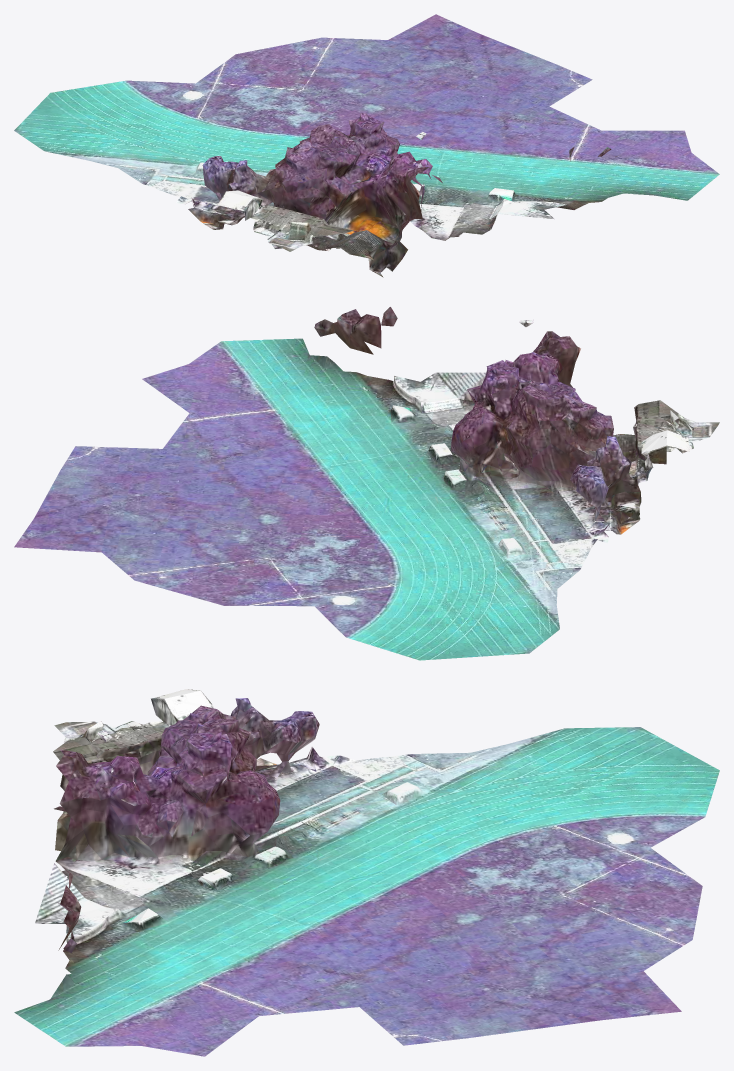
The model's file is Tile_+012_+018_L19_000001.glb.
The picture shows the model from 3 angles, top to bottom: view 1: azimuth 30°, elevation 25°; view 2: azimuth 150°, elevation 25°; view 3: azimuth 270°, elevation 25°; orthographic projection. The views are drawn at different scales.
Visible parts, largest first — view 1: rtc; view 2: rtc; view 3: rtc.
Boxes of the visible parts, x1,y1,x2,y2 form: rtc: (14, 14, 719, 277); rtc: (14, 307, 719, 660); rtc: (14, 689, 719, 1056).
Size of the model in its own units: 68.55 by 14.97 by 62.72.
Materials: 1 (1 with a texture image).
